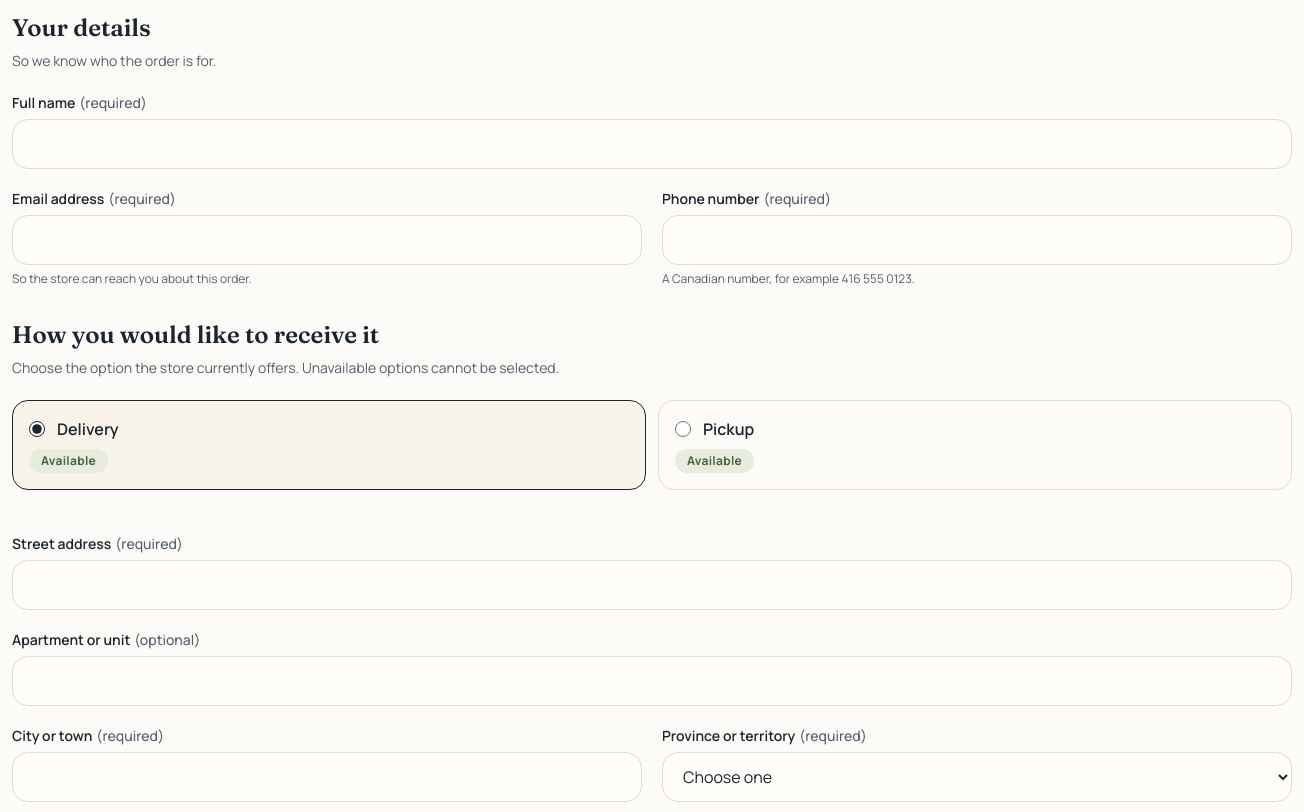
Scenario: CustomerForm: validation › links the error to its field for assistive technology
The width and height of the screenshot is (1304, 812).
Click the field labelled "Email address(required)": (327, 240) [12,215,642,265]
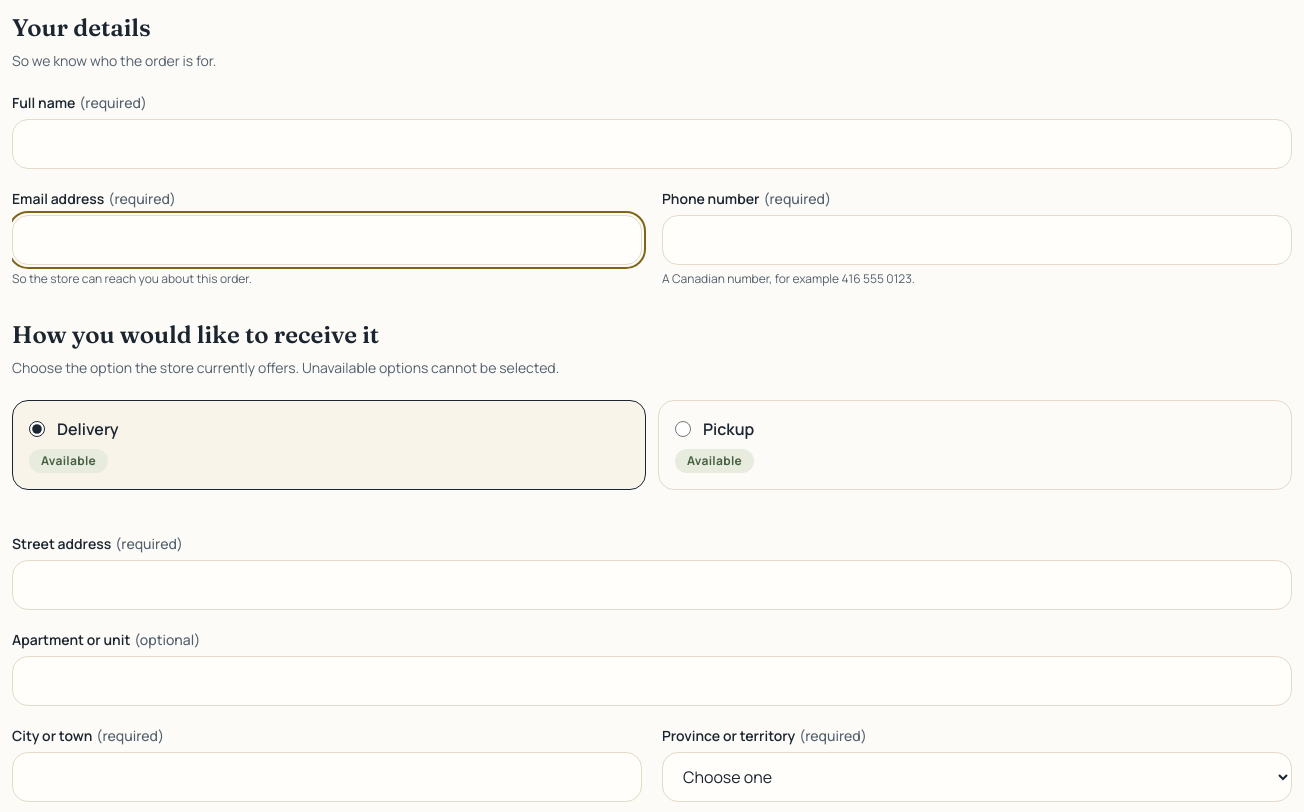
Press Tab
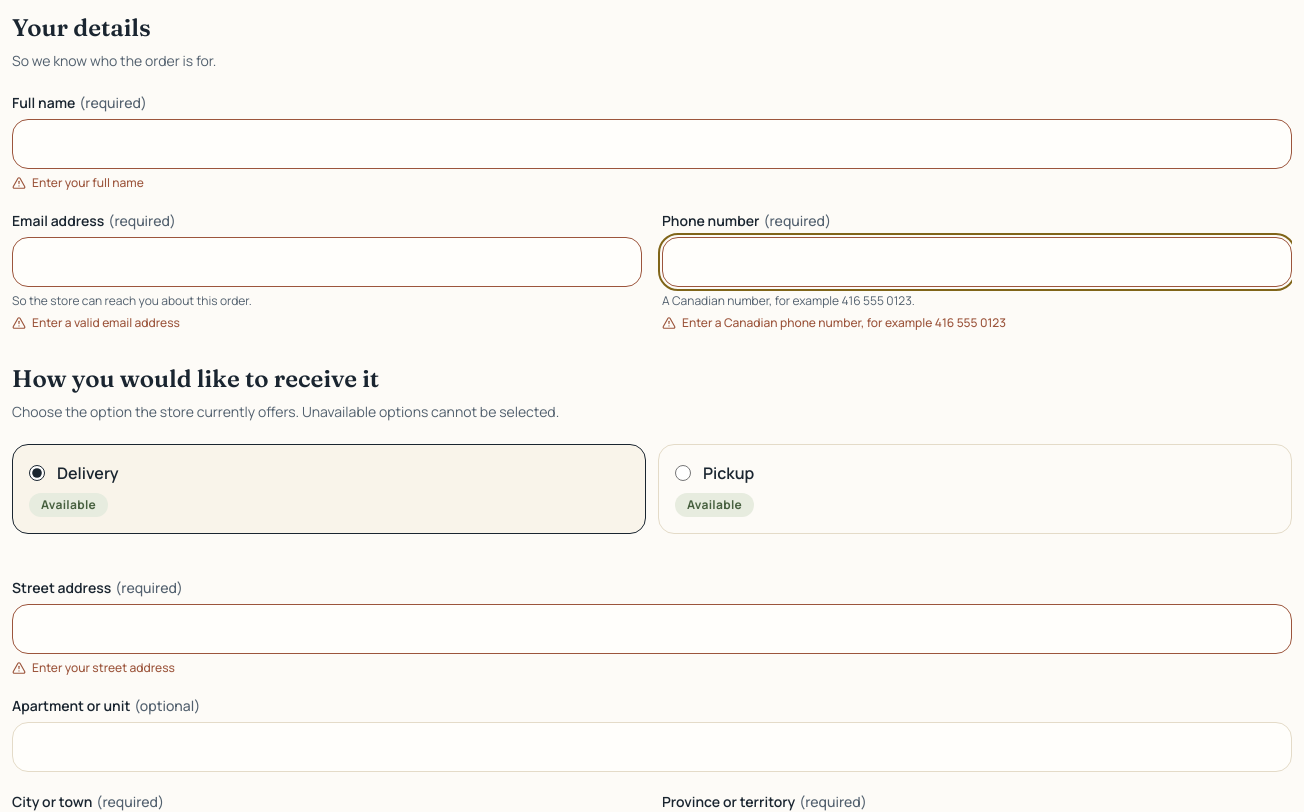
Expected: the text "Enter a valid email address" is shown, [12,314,180,331]
